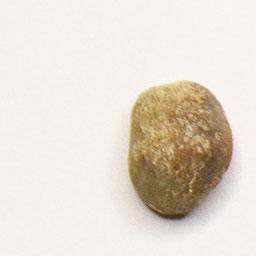defect: (123, 76, 237, 222)
